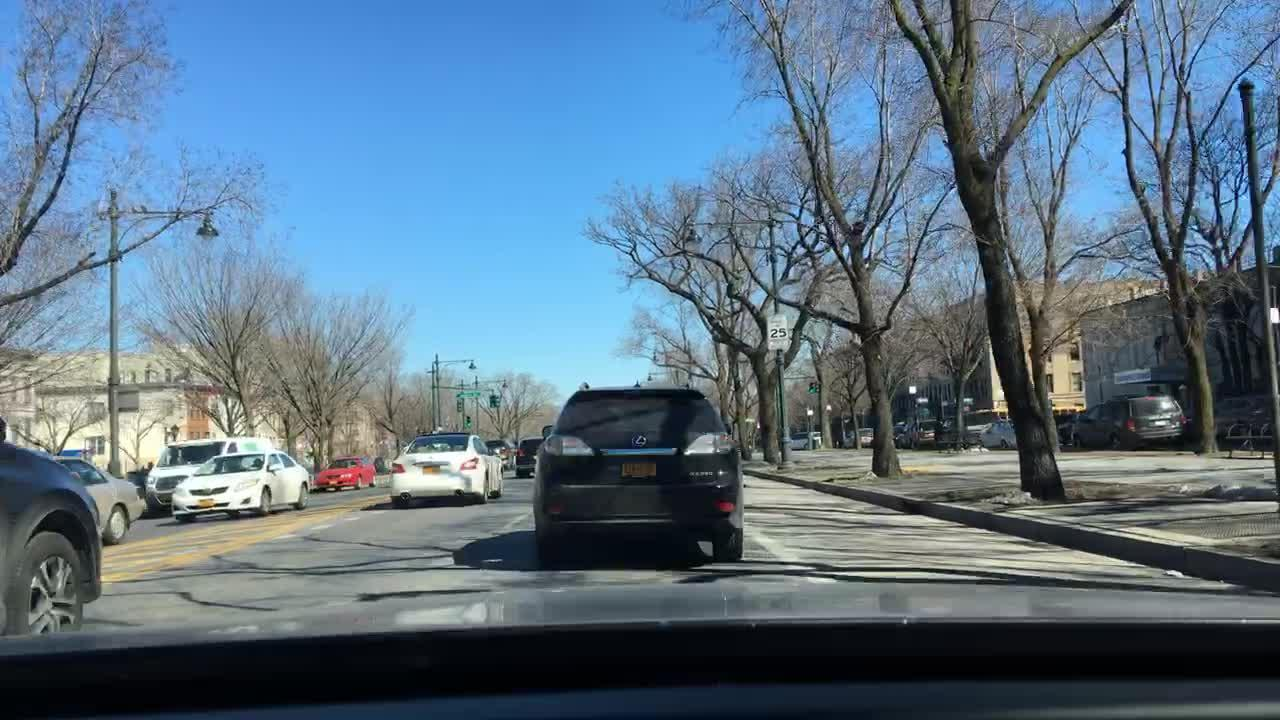lexus: (628, 429, 650, 450)
